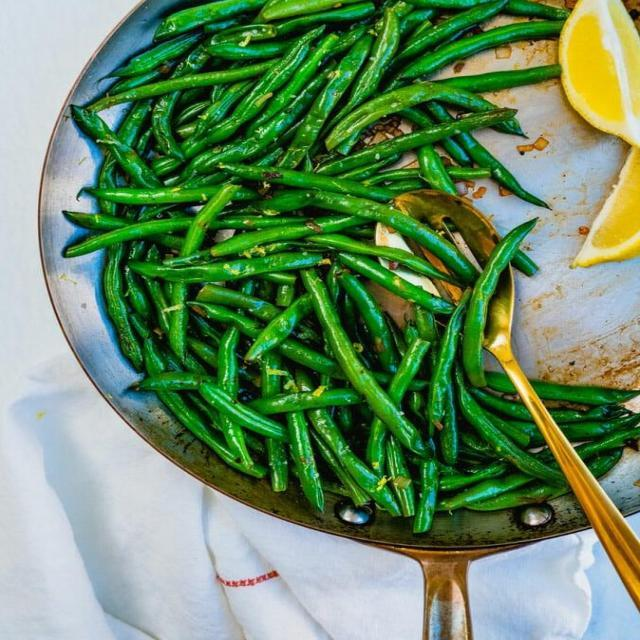Beans: (61, 0, 639, 536)
